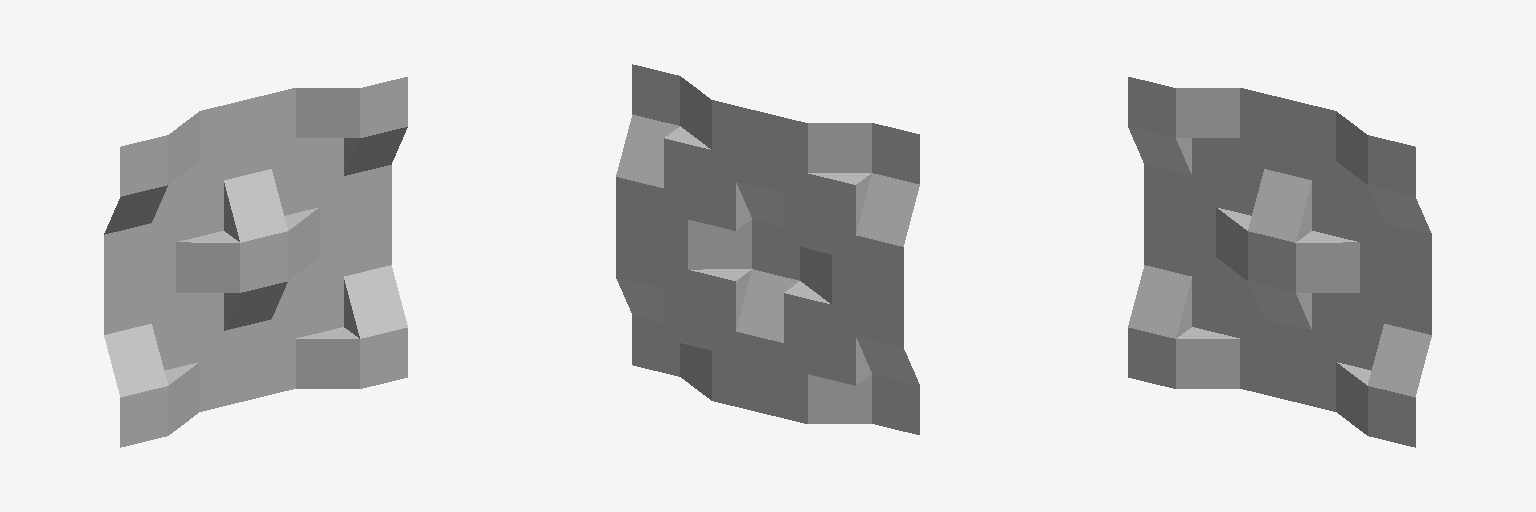
Rendered from tag1_6.obj.
The picture shows the model from 3 angles: view 1: azimuth 30°, elevation 25°; view 2: azimuth 150°, elevation 25°; view 3: azimuth 330°, elevation 25°; orthographic projection.
Visible parts, largest first — view 1: Grid; view 2: Grid; view 3: Grid.
Boxes of the visible parts, <box> form: Grid: <box>104,77,407,447</box>; Grid: <box>616,64,919,434</box>; Grid: <box>1128,77,1431,447</box>.
Size of the model in its own units: 30 by 30 by 3.